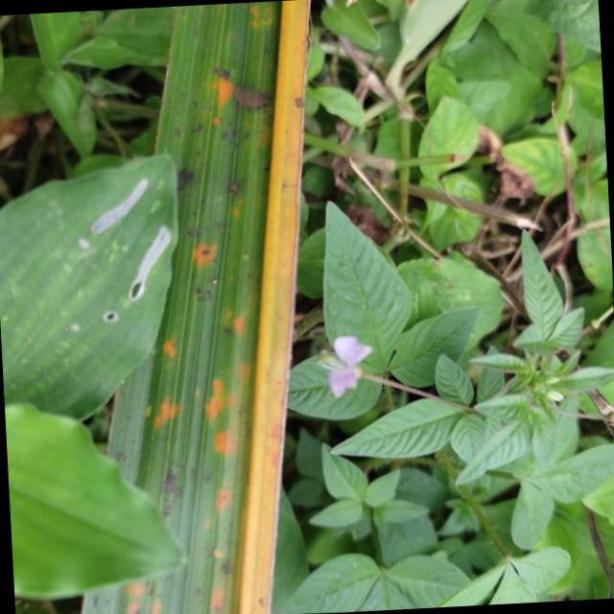Megnesium: (83, 0, 312, 614)
